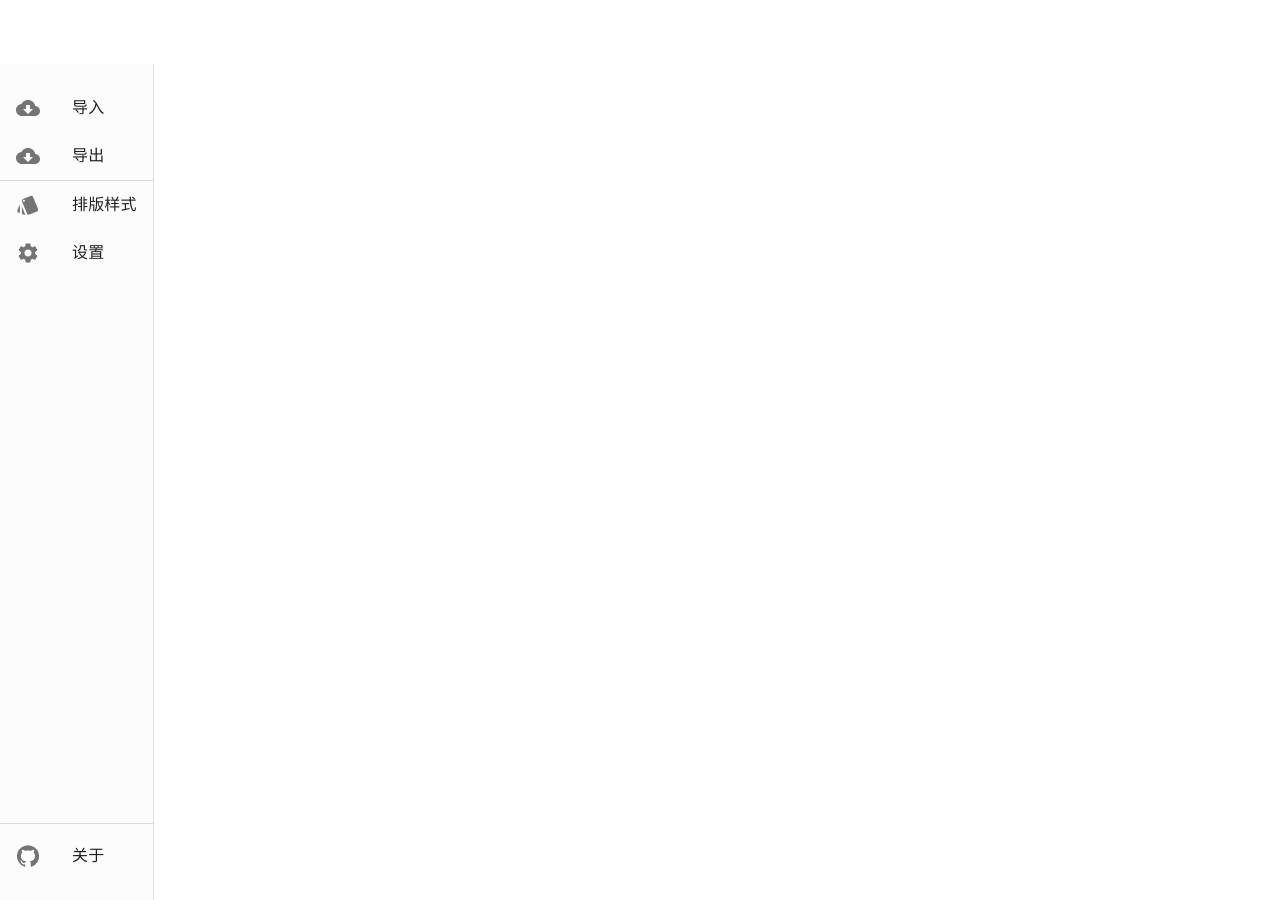
Sidebar › opens dialogs when clicking buttons
The width and height of the screenshot is (1280, 900).
// 点击按钮并验证对话框是否打开
Click the button "导入" at (88, 108), box [16, 96, 104, 120]
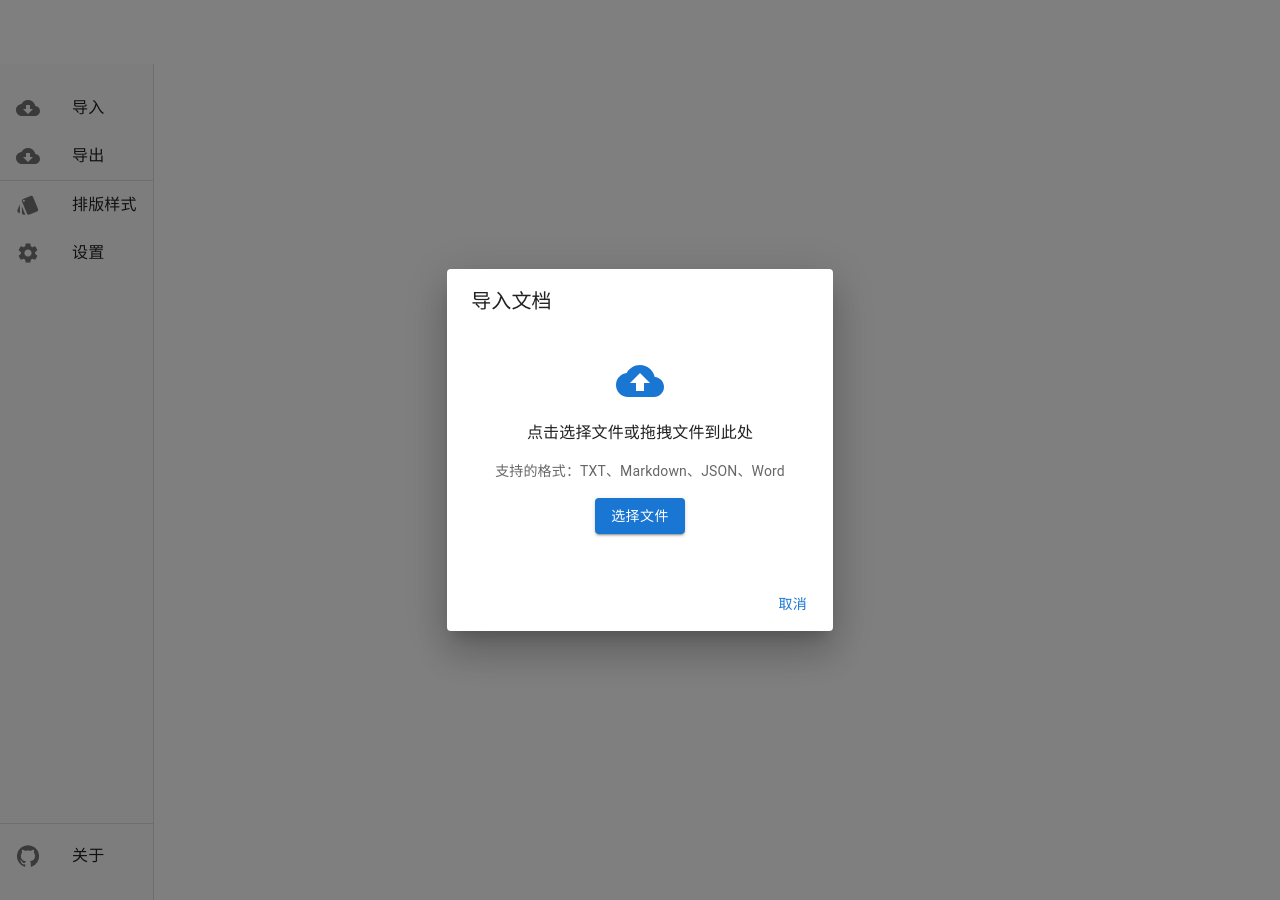
Now the dialog is shown, box [447, 270, 833, 630]
